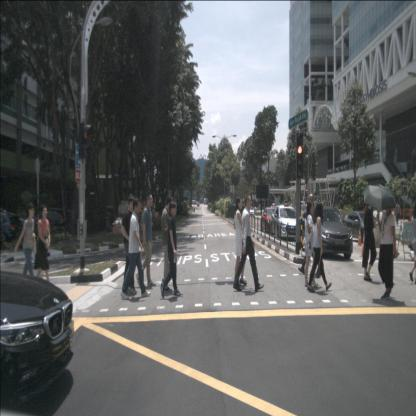barrier: (394, 208, 404, 220), (402, 209, 412, 219), (410, 210, 416, 222)
cone: (360, 233, 367, 258), (357, 228, 362, 248), (113, 222, 117, 237)
